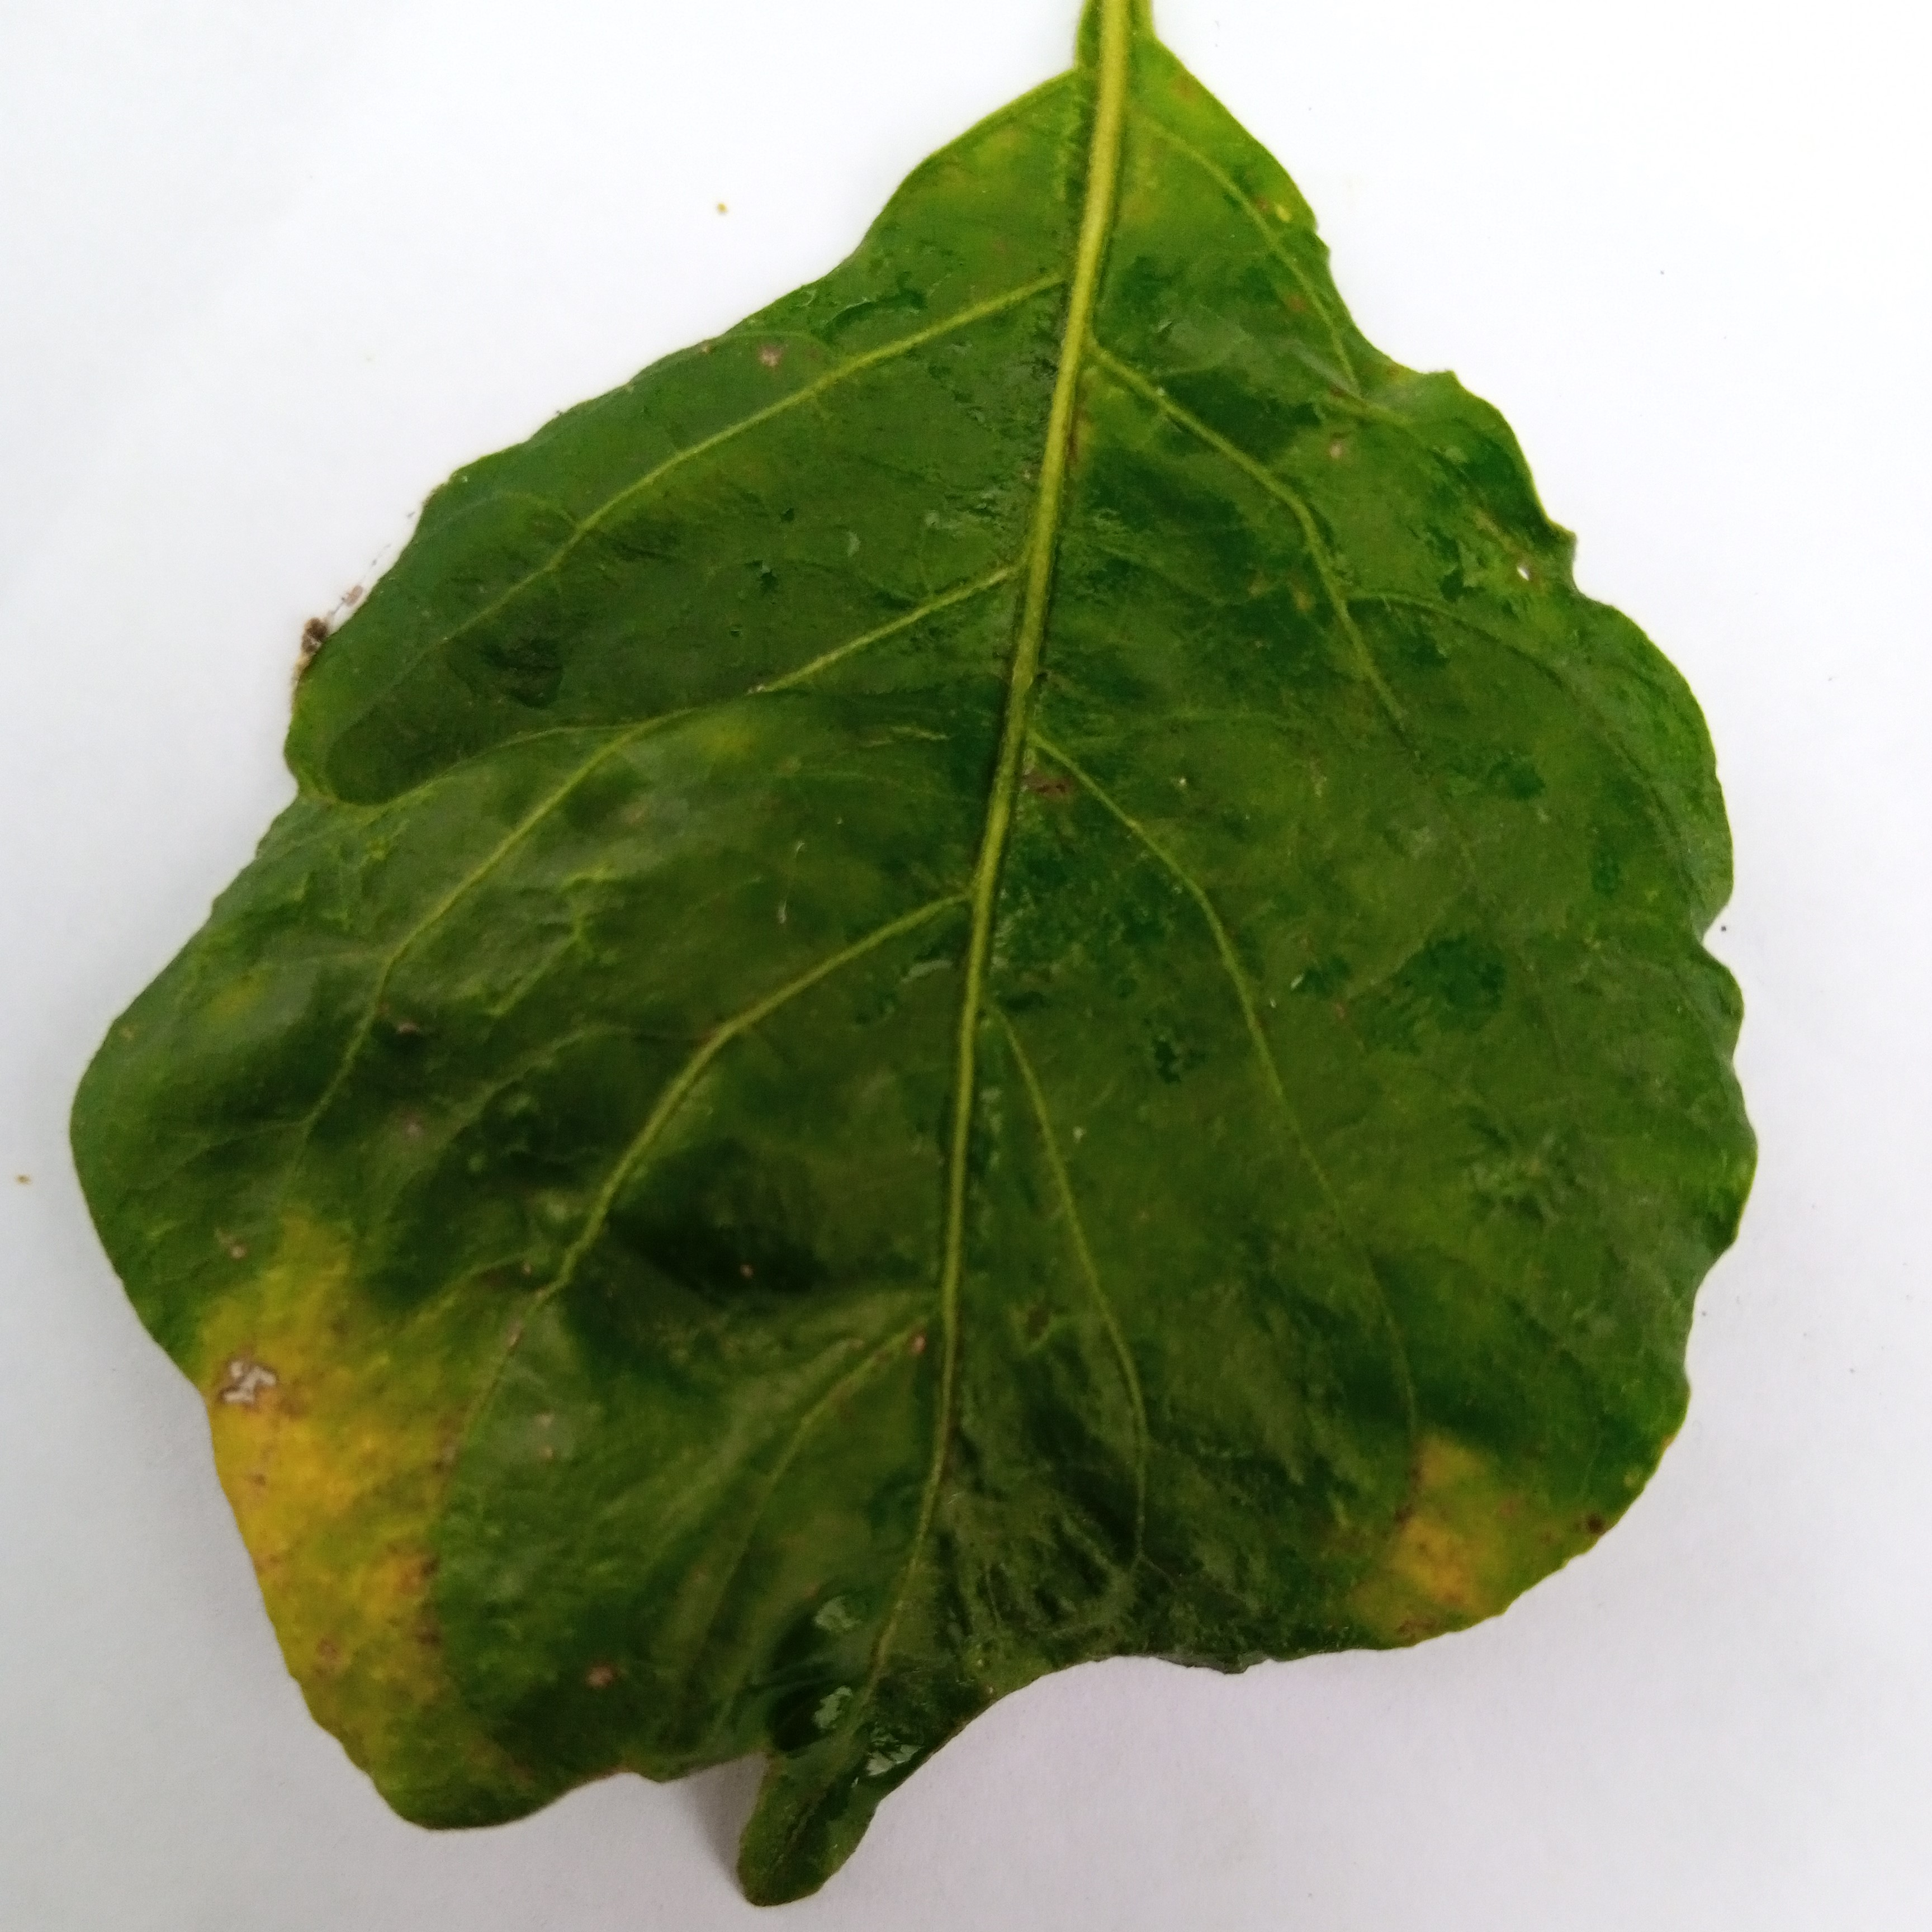Leaf: (44, 35, 1920, 1932)
